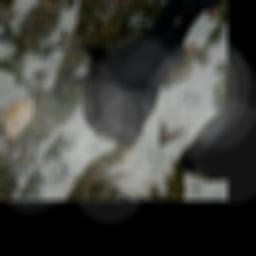Crow: (7, 0, 207, 152)
